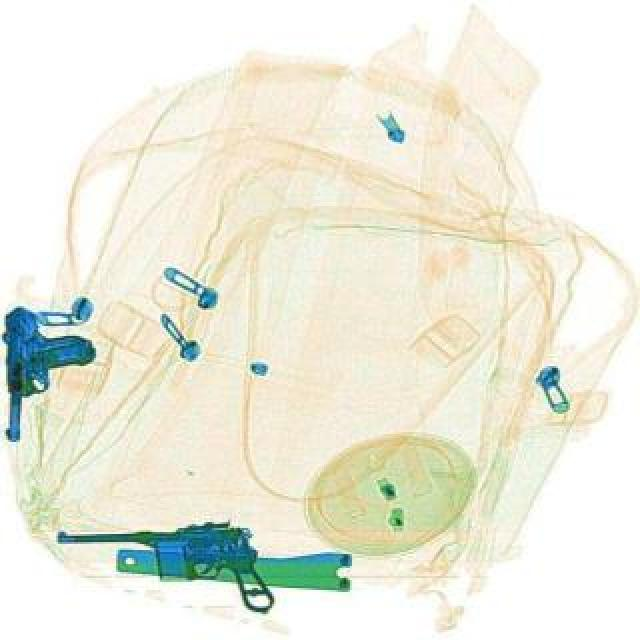gun: (52, 522, 274, 614), (0, 304, 94, 444)
